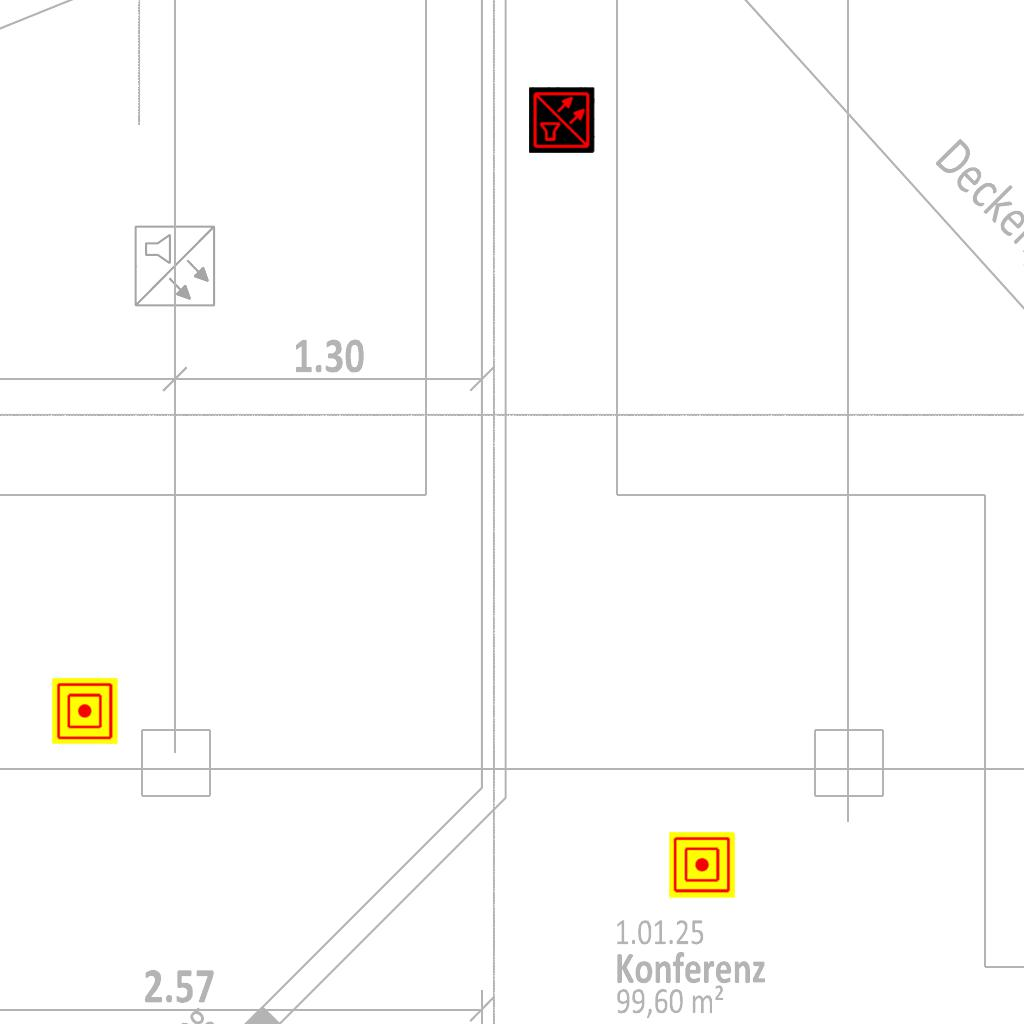NAM-Nichtautomatischer_Melder: (669, 832, 735, 898), (52, 678, 118, 744)
OKW_Multisensormelder_(Kombination_optischer_Rauch-Kahlenmonoxid_Waerme-Melder): (529, 87, 595, 153)
